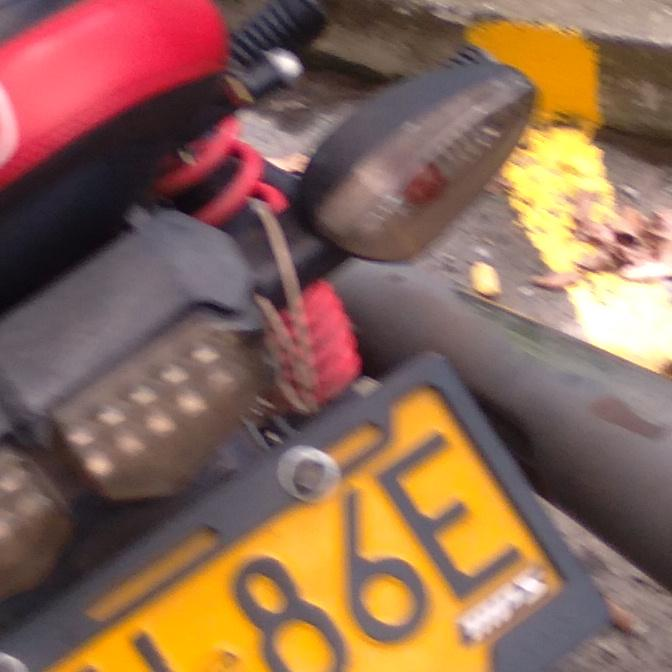plates: (0, 357, 624, 672)
